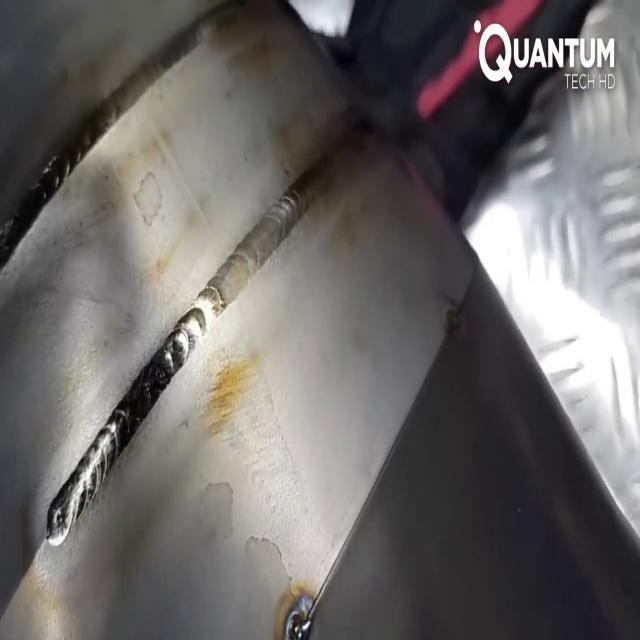Good Weld: (52, 298, 200, 505), (209, 126, 325, 316)
